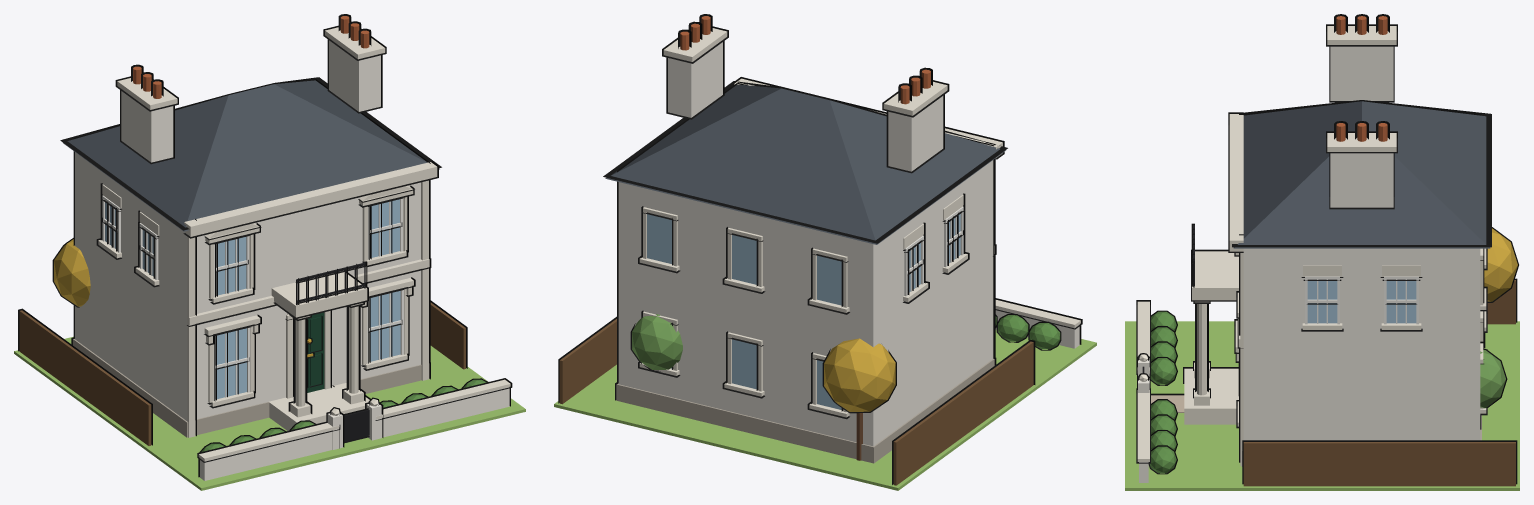
Rendered from MustakilEv_londra_villa_8.fbx.
The picture shows the model from 3 angles, left to right: view 1: azimuth 30°, elevation 25°; view 2: azimuth 150°, elevation 25°; view 3: azimuth 270°, elevation 25°; orthographic projection. The views are drawn at different scales.
Visible parts, largest first — view 1: MustakilEv_londra_villa_8; view 2: MustakilEv_londra_villa_8; view 3: MustakilEv_londra_villa_8.
Part boxes in pixels (left/top/right/bottom): MustakilEv_londra_villa_8: left=14, top=14, right=525, bottom=490; MustakilEv_londra_villa_8: left=554, top=14, right=1096, bottom=490; MustakilEv_londra_villa_8: left=1125, top=14, right=1519, bottom=490.
Size of the model in its own units: 10 by 9.42 by 10.
